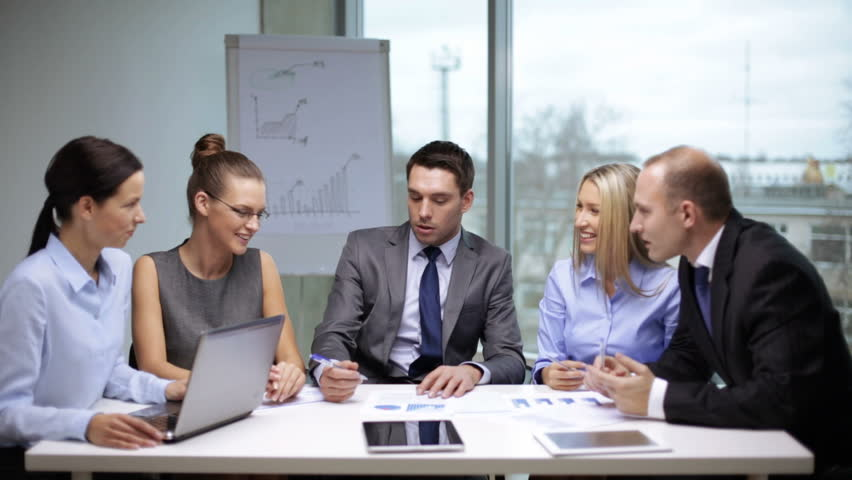Person: (620, 131, 852, 473), (7, 129, 205, 452), (304, 134, 534, 384), (129, 128, 311, 429), (529, 152, 686, 393)
